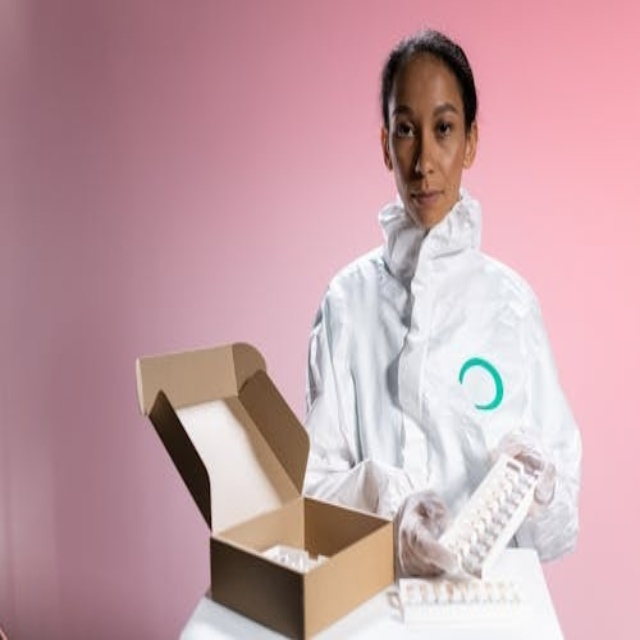Guantes: (390, 484, 462, 582)
Sin_gafas: (389, 98, 461, 146)
Sin_mascara: (408, 181, 448, 223)
